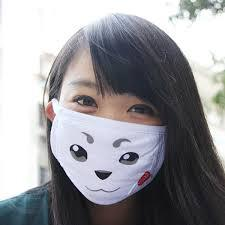OK: (51, 70, 172, 204)
